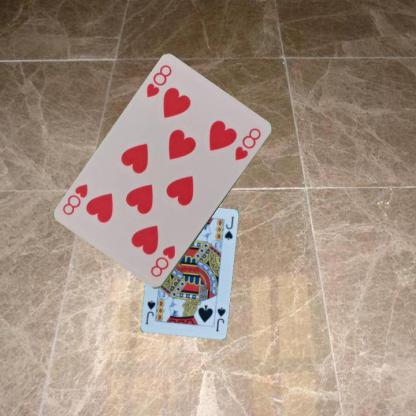8h: (144, 62, 173, 100), (148, 243, 177, 279)
Js: (213, 304, 227, 332)
